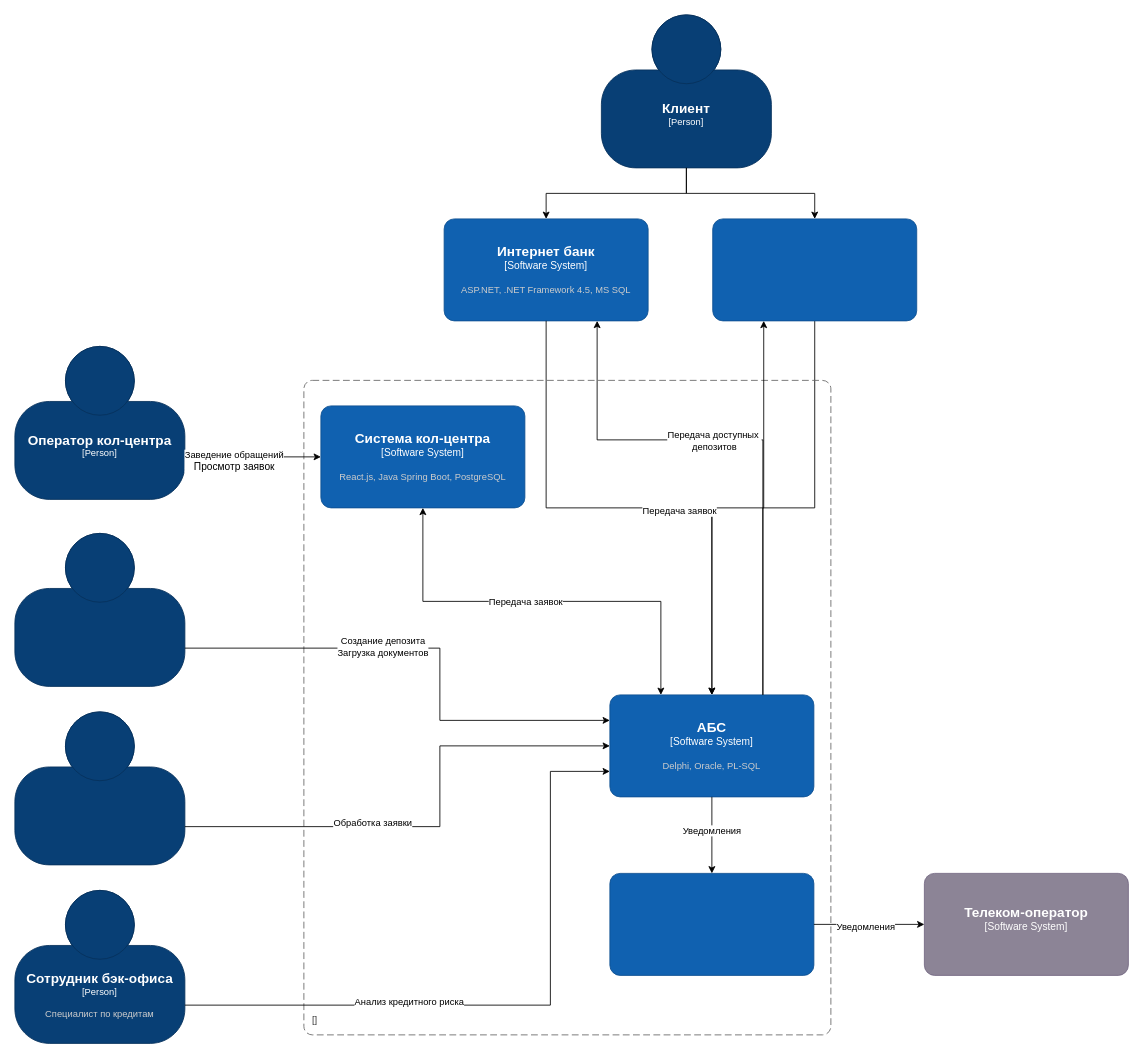
The diagram is 1143 pixels wide and 1058 high, and some of its shapes have lost their labels. The centre of each missing label's shape, as x and y in pixels:
Сайт [Software System] PHP, React: point (814, 269)
СМС-шлюз [Software System]: point (711, 924)
Сотрудник бэк-офиса [Person] Специалист по депозитам: point (99, 788)
Сотрудник отделения [Person]: point (99, 609)
